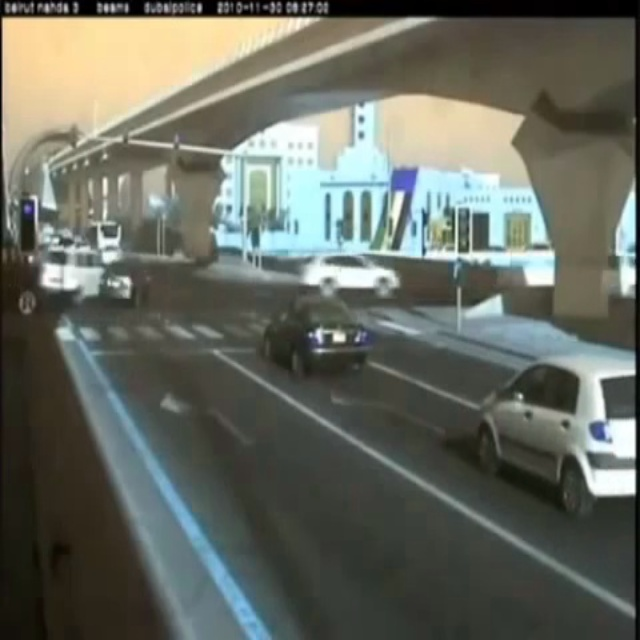acc: (44, 246, 146, 312)
